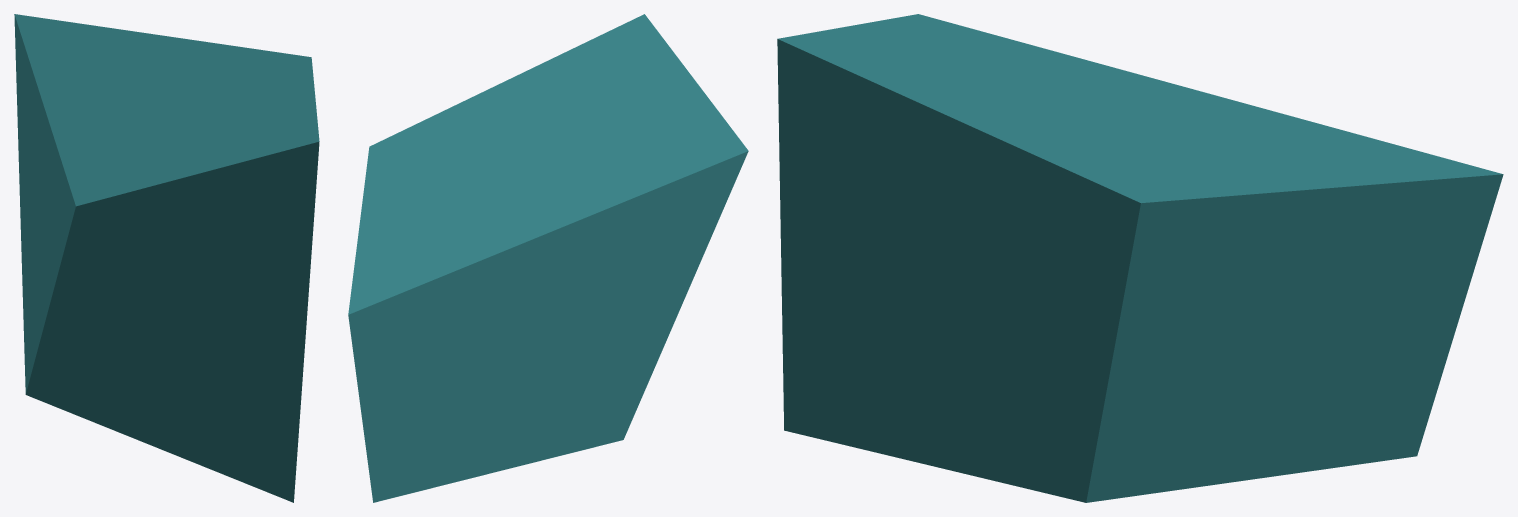
The picture shows the model from 3 angles, left to right: view 1: azimuth 30°, elevation 25°; view 2: azimuth 150°, elevation 25°; view 3: azimuth 270°, elevation 25°; orthographic projection. The views are drawn at different scales.
Parts seen in each view (by area): view 1: Cube.017; view 2: Cube.017; view 3: Cube.017.
Part boxes in pixels (x1=…): Cube.017: x1=14, y1=14, x2=319, y2=502; Cube.017: x1=348, y1=14, x2=748, y2=502; Cube.017: x1=777, y1=14, x2=1503, y2=502.
Size of the model in its own units: 0.8159 by 0.8677 by 1.36.
